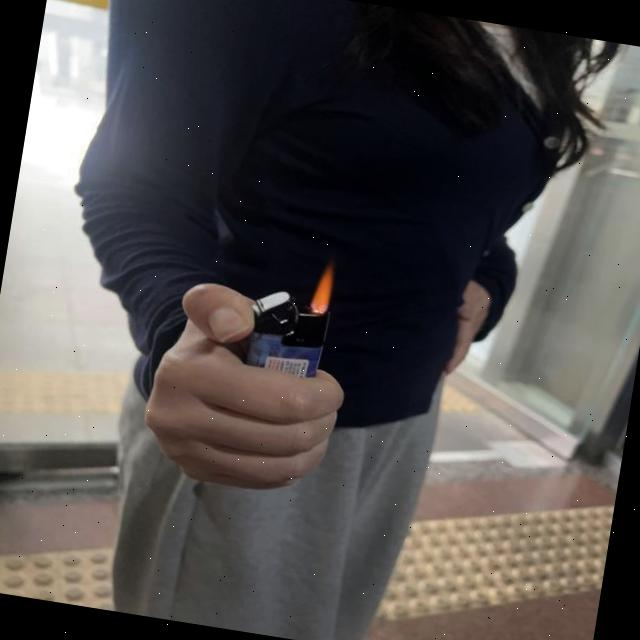fire: (308, 260, 340, 318)
